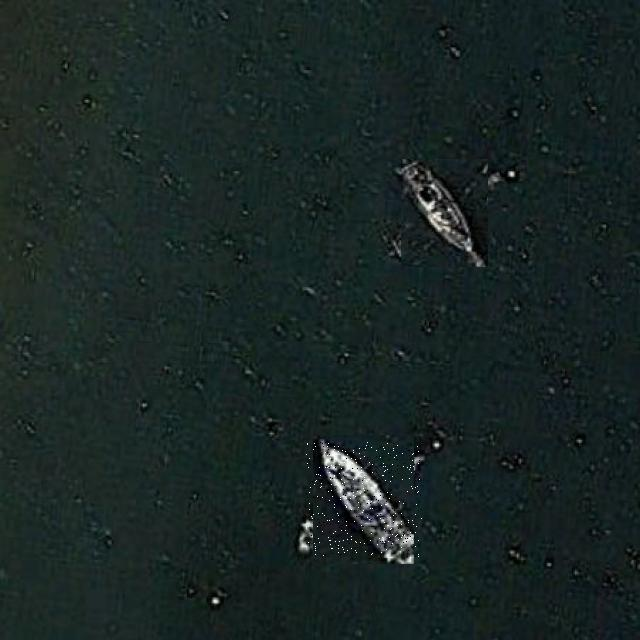boat: (306, 442, 422, 557), (395, 164, 493, 262)
